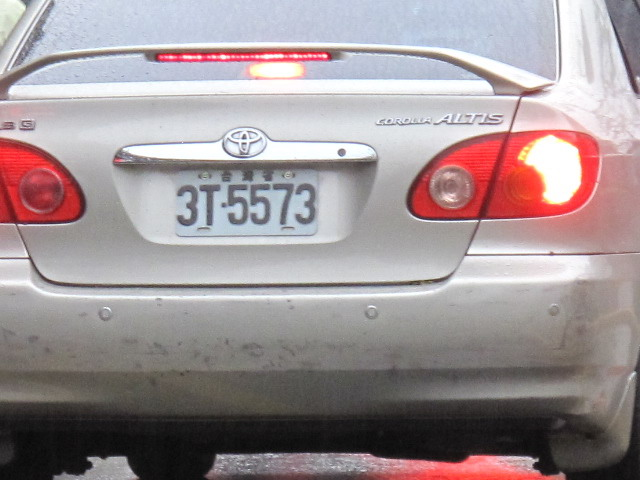plate: (170, 167, 319, 239)
